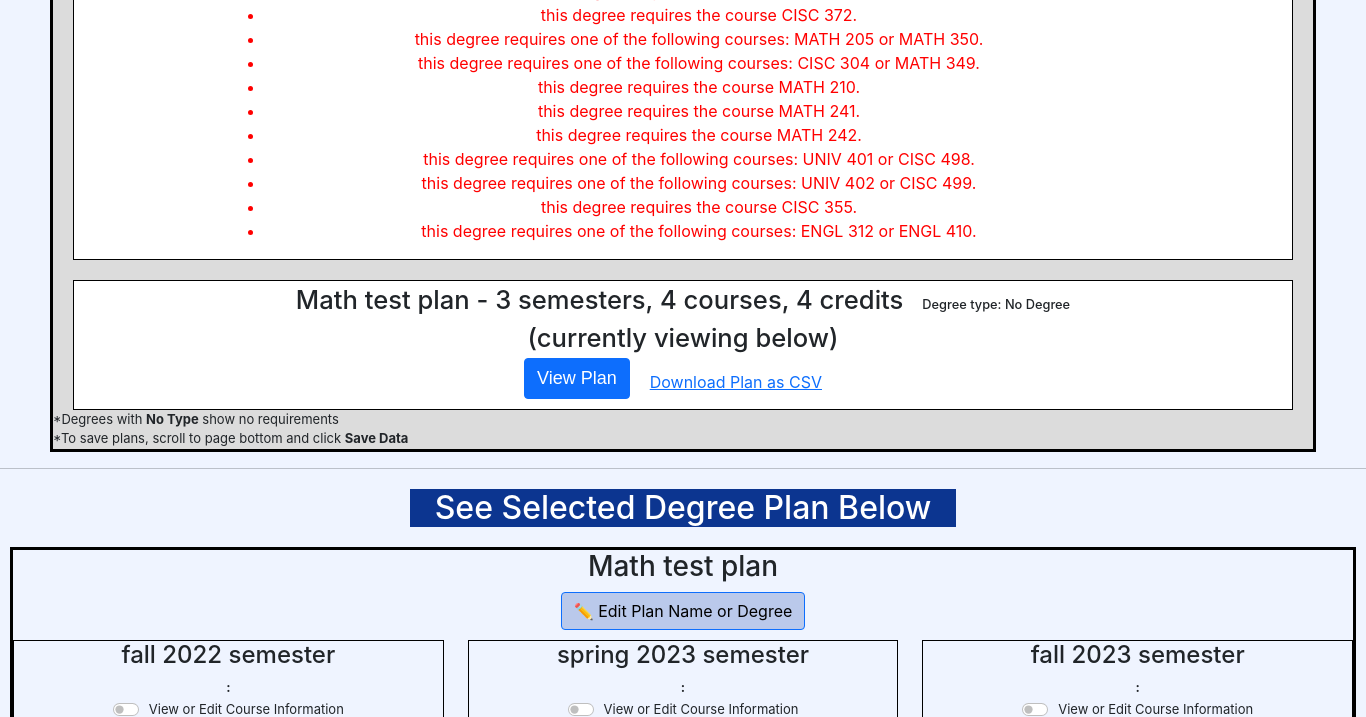
Test: ViewDegreePlan Tests › Test Add New Semester button
(page scrolled)
Click the button with test id "107-degree-plan". click: (577, 378)
box: [524, 358, 630, 399]
(page scrolled)
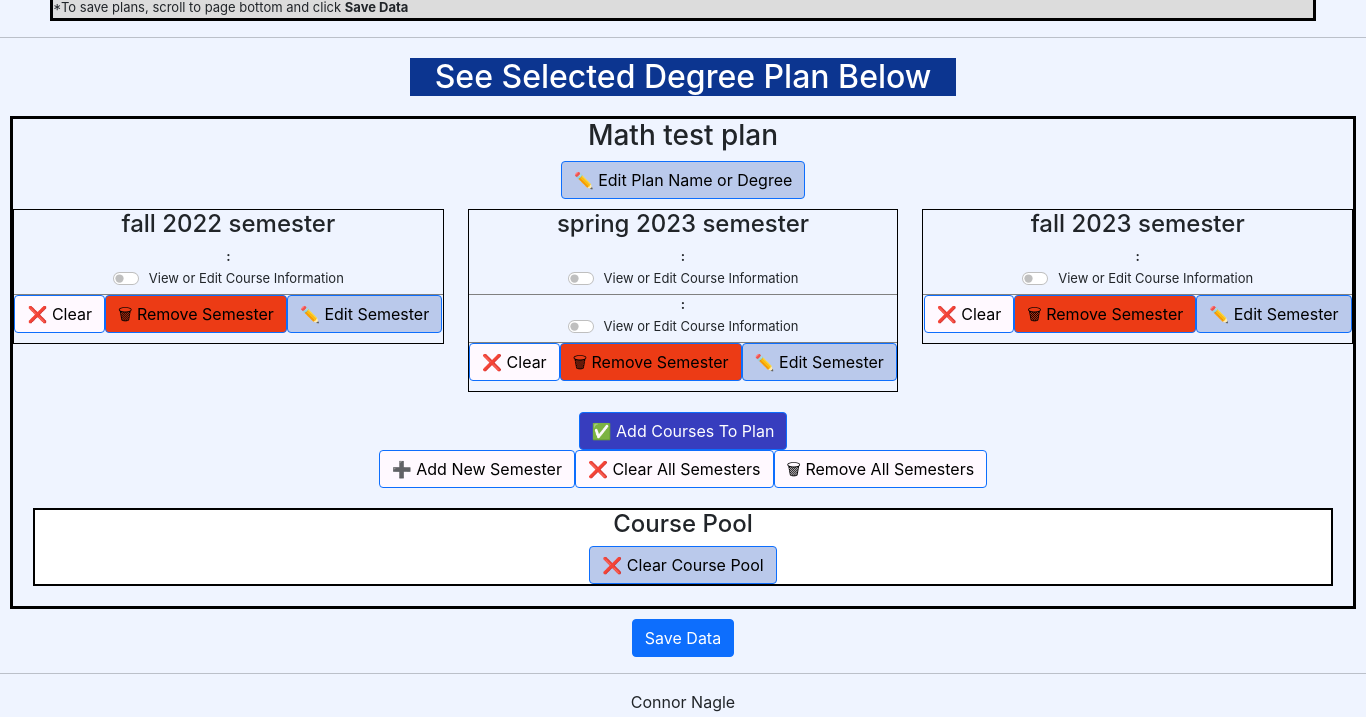
Click the button with test id "107-add-semester-degree-plan". click: (477, 468)
box: [379, 450, 575, 488]
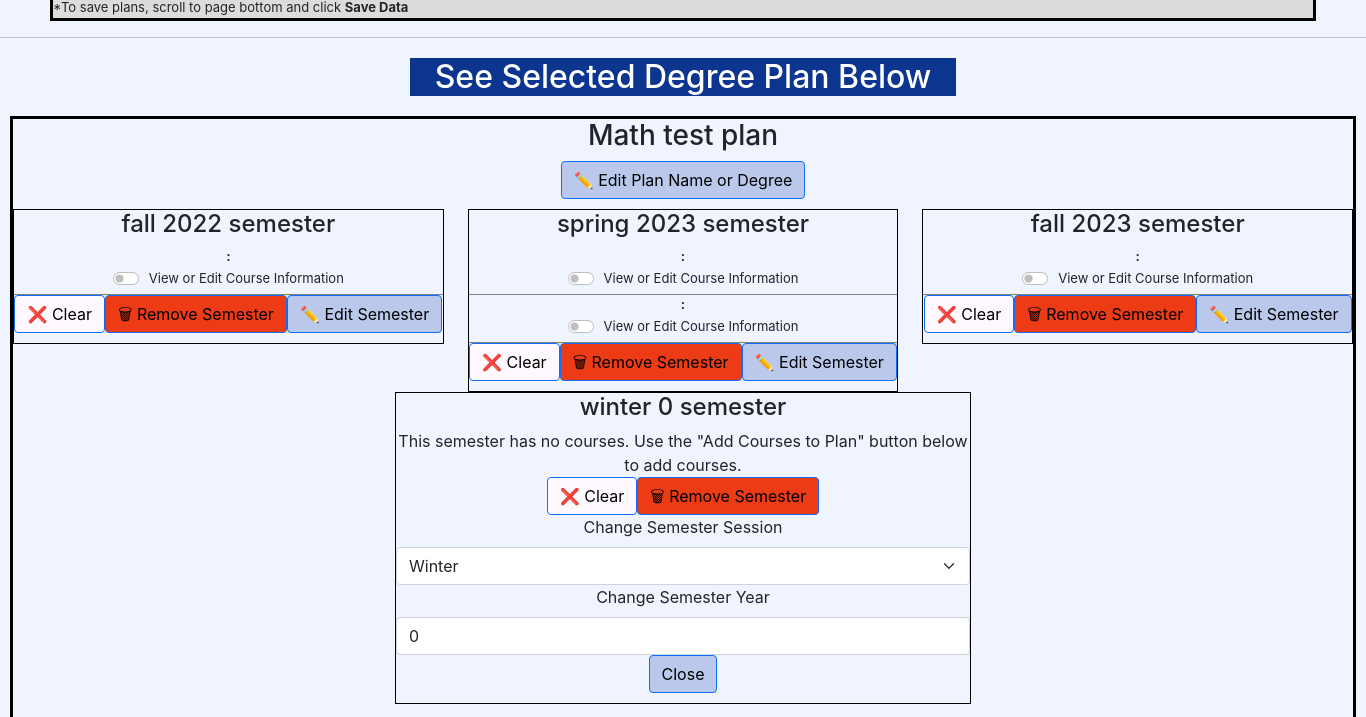
Now the number of headings "winter 0 semester" is 1, box [580, 392, 786, 420]
